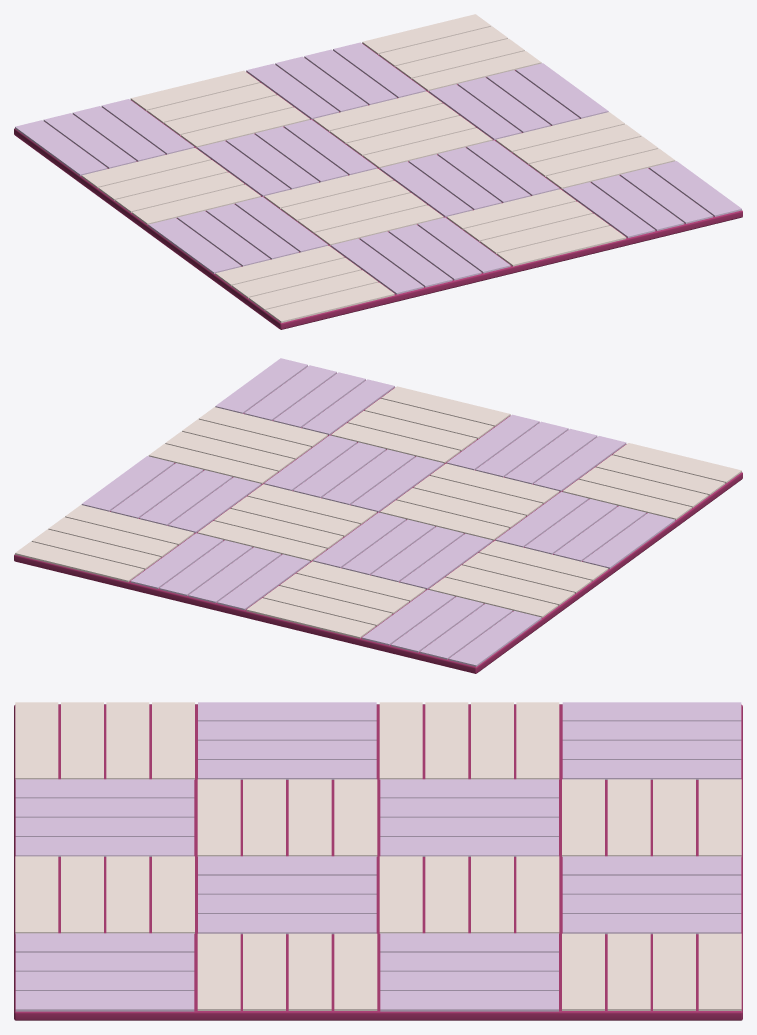
Rendered from floor_parquet.glb.
3 views of the same model, one above another, from view 1: azimuth 30°, elevation 25°; view 2: azimuth 150°, elevation 25°; view 3: azimuth 270°, elevation 25° (orthographic). The views are drawn at different scales.
Visible parts, largest first — view 1: floor_parquet; view 2: floor_parquet; view 3: floor_parquet.
Part boxes in pixels (x1=…): floor_parquet: x1=14, y1=14, x2=742, y2=329; floor_parquet: x1=14, y1=358, x2=742, y2=673; floor_parquet: x1=14, y1=702, x2=742, y2=1020.
Size of the model in its own units: 2 by 0.036 by 2.
